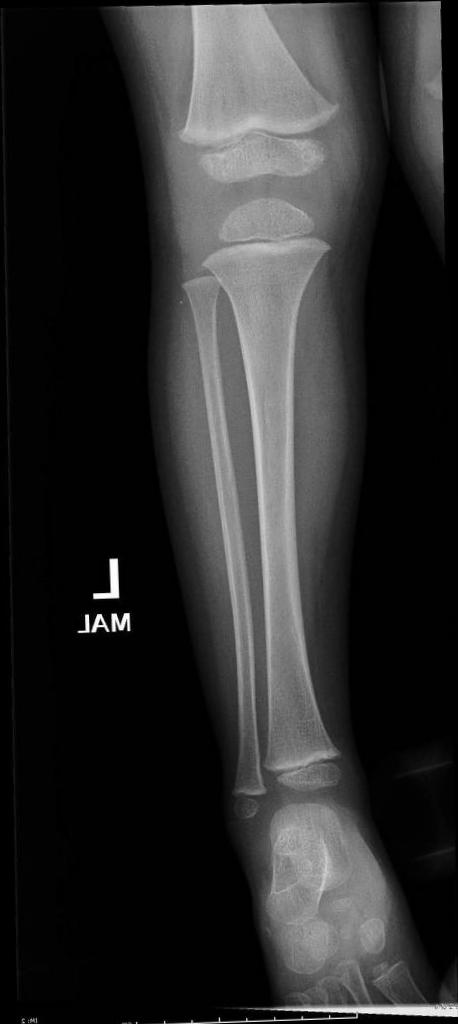line: (290, 617, 322, 724)
